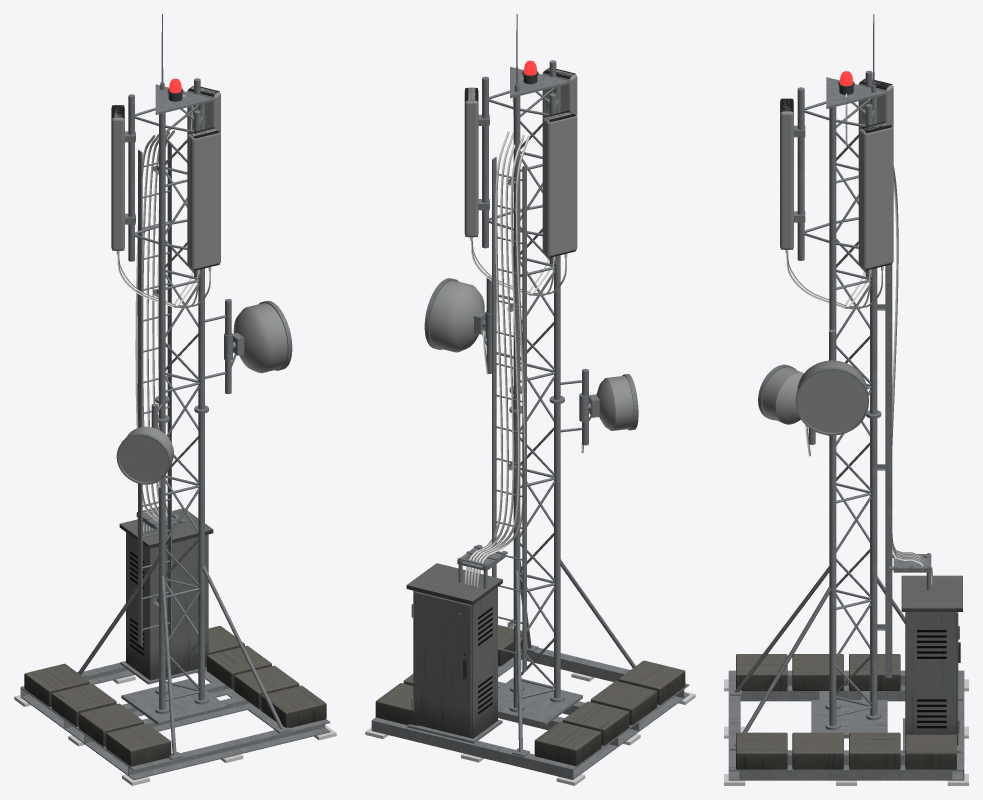
File: comm_mast.glb
3 views of the same model, side by side, from view 1: azimuth 30°, elevation 25°; view 2: azimuth 150°, elevation 25°; view 3: azimuth 270°, elevation 25° (orthographic). The views are drawn at different scales.
Parts seen in each view (by area): view 1: part_mast_LOD0, part_ballast_LOD0, part_base_LOD0, part_cabinet_LOD0, part_cables_LOD0, part_panel_1_LOD0, part_dish_1_LOD0, part_dish_2_LOD0, part_panel_3_LOD0, part_panel_2_LOD0; view 2: part_mast_LOD0, part_cables_LOD0, part_base_LOD0, part_ballast_LOD0, part_cabinet_door_LOD0, part_cabinet_LOD0, part_panel_3_LOD0, part_dish_1_LOD0, part_panel_2_LOD0, part_dish_2_LOD0, part_panel_1_LOD0; view 3: part_mast_LOD0, part_ballast_LOD0, part_base_LOD0, part_cabinet_LOD0, part_panel_2_LOD0, part_cables_LOD0, part_dish_1_LOD0, part_panel_1_LOD0, part_dish_2_LOD0, part_panel_3_LOD0, part_cabinet_door_LOD0.
Part boxes in pixels (x1,y1,x2,y2): part_mast_LOD0: (77, 14, 291, 759); part_ballast_LOD0: (24, 626, 326, 766); part_base_LOD0: (14, 661, 336, 785); part_cabinet_LOD0: (119, 508, 213, 680); part_cables_LOD0: (135, 130, 185, 645); part_panel_1_LOD0: (174, 127, 220, 308); part_dish_1_LOD0: (224, 300, 292, 373); part_dish_2_LOD0: (116, 426, 173, 487); part_panel_3_LOD0: (111, 105, 175, 307); part_panel_2_LOD0: (173, 86, 220, 306); part_mast_LOD0: (482, 14, 635, 756); part_cables_LOD0: (457, 131, 529, 673); part_base_LOD0: (365, 648, 695, 785); part_ballast_LOD0: (375, 625, 685, 766); part_cabinet_door_LOD0: (411, 591, 471, 735); part_cabinet_LOD0: (406, 563, 502, 738); part_panel_3_LOD0: (529, 110, 577, 296); part_dish_1_LOD0: (424, 278, 491, 374); part_panel_2_LOD0: (464, 87, 530, 295); part_dish_2_LOD0: (579, 374, 638, 453); part_panel_1_LOD0: (528, 68, 577, 293); part_mast_LOD0: (730, 14, 962, 750); part_ballast_LOD0: (736, 654, 956, 769); part_base_LOD0: (724, 670, 968, 785); part_cabinet_LOD0: (901, 575, 962, 734); part_panel_2_LOD0: (844, 121, 893, 309); part_cables_LOD0: (877, 166, 933, 677); part_dish_1_LOD0: (795, 360, 868, 435); part_panel_1_LOD0: (780, 98, 846, 309); part_dish_2_LOD0: (758, 364, 810, 456); part_panel_3_LOD0: (844, 78, 893, 307); part_cabinet_door_LOD0: (956, 612, 960, 745).
Size of what is drawn, in the model's own units: 2.08 by 6.75 by 2.08.
15 materials, 11 textured.
